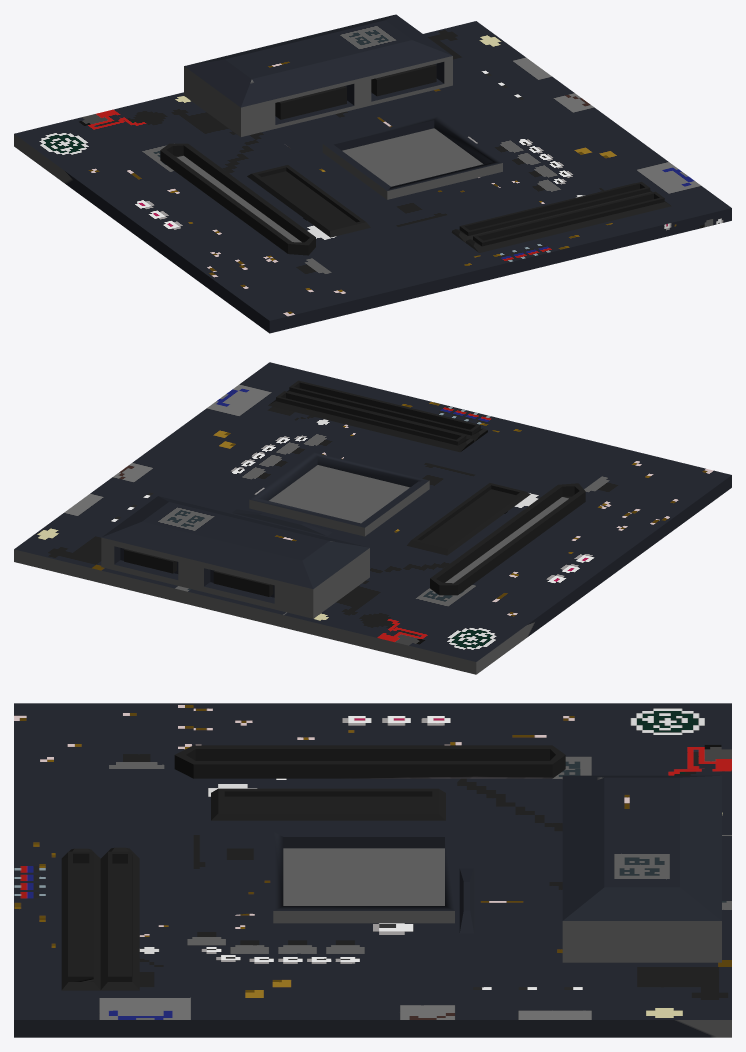
The model's file is PlacaMae_M.fbx.
3 views of the same model, one above another, from view 1: azimuth 30°, elevation 25°; view 2: azimuth 150°, elevation 25°; view 3: azimuth 270°, elevation 25° (orthographic). The views are drawn at different scales.
Parts seen in each view (by area): view 1: PlacaMae.M; view 2: PlacaMae.M; view 3: PlacaMae.M.
Boxes of the visible parts, left/top/right/bottom form: PlacaMae.M: left=14, top=14, right=731, bottom=333; PlacaMae.M: left=14, top=362, right=731, bottom=674; PlacaMae.M: left=14, top=703, right=731, bottom=1037.
Size of the model in its own units: 1211 by 134 by 1159.
